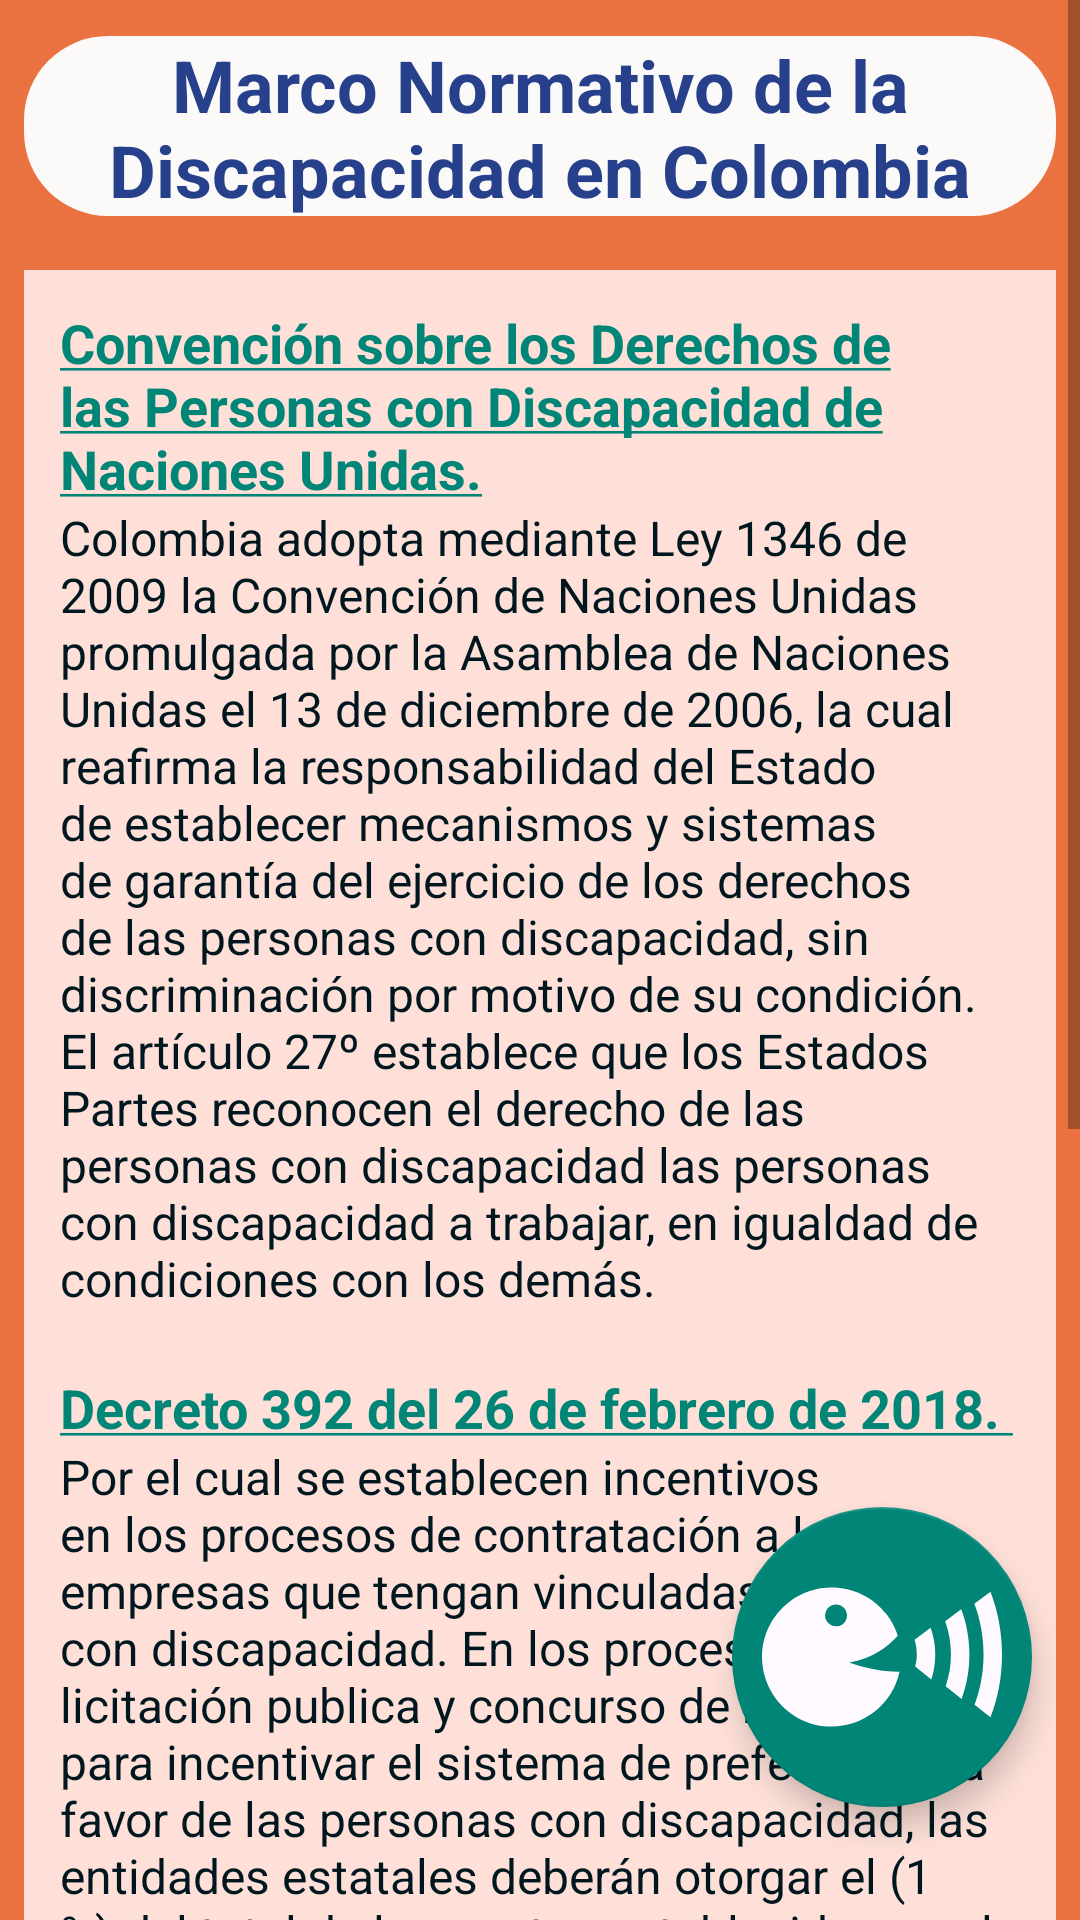

Icon click points for this 1080px×1920px phone screenshot, format [x,y]:
Activar comandos de voz: [882,1657]
